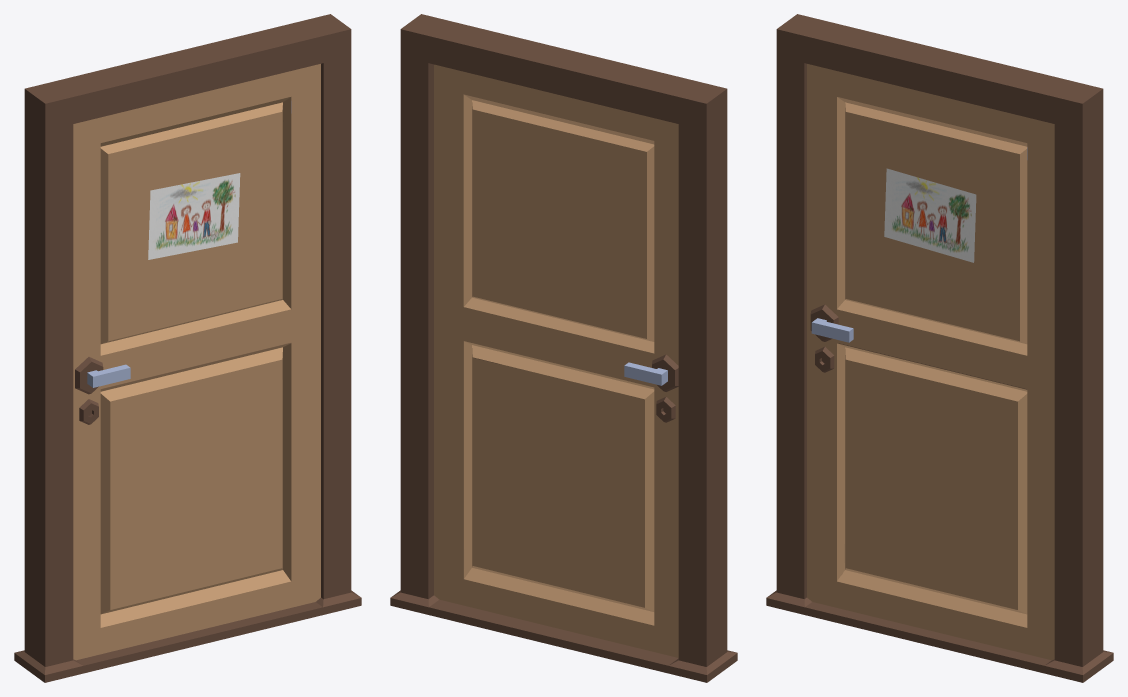
File: PuertaNiño (1).fbx
3 views of the same model, side by side, from view 1: azimuth 30°, elevation 25°; view 2: azimuth 150°, elevation 25°; view 3: azimuth 330°, elevation 25° (orthographic).
Visible parts, largest first — view 1: PuertaNiñoBase, PuertaNiñoMarco, PuertaNiñoManija; view 2: PuertaNiñoBase, PuertaNiñoMarco, PuertaNiñoManija; view 3: PuertaNiñoBase, PuertaNiñoMarco, PuertaNiñoManija.
Boxes of the visible parts, x1=… form: PuertaNiñoBase: x1=73, y1=64, x2=320, y2=660; PuertaNiñoMarco: x1=14, y1=14, x2=361, y2=682; PuertaNiñoManija: x1=87, y1=364, x2=130, y2=387; PuertaNiñoBase: x1=434, y1=64, x2=678, y2=657; PuertaNiñoMarco: x1=390, y1=14, x2=737, y2=682; PuertaNiñoManija: x1=624, y1=362, x2=667, y2=385; PuertaNiñoBase: x1=807, y1=64, x2=1054, y2=660; PuertaNiñoMarco: x1=766, y1=14, x2=1113, y2=682; PuertaNiñoManija: x1=811, y1=318, x2=853, y2=342.
Size of the model in its own units: 81.59 by 141 by 14.27.
